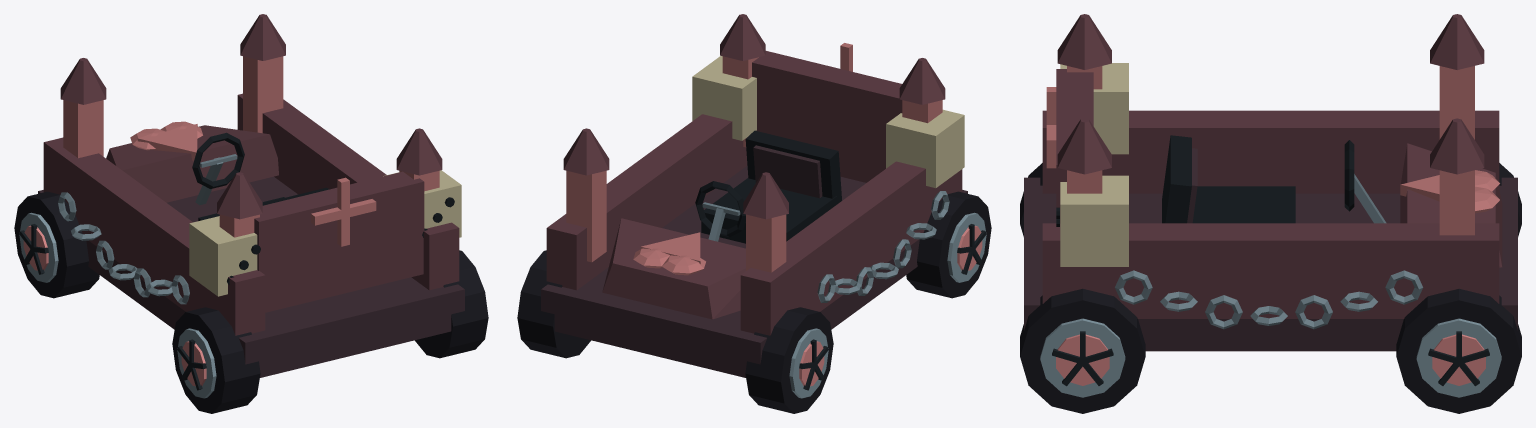
The model's file is kart.glb.
3 renders of one model, left to right at view 1: azimuth 30°, elevation 25°; view 2: azimuth 150°, elevation 25°; view 3: azimuth 270°, elevation 25°, orthographic. The views are drawn at different scales.
Visible parts, largest first — view 1: identity-reliquary-reliquary-arched-stone-chest, wheel-rear-left, wheel-front-left, identity-reliquary-motif-dice, wheel-rear-right, identity-reliquary-motif-chains, identity-reliquary-driver-cockpit, identity-reliquary-motif-heart; view 2: identity-reliquary-reliquary-arched-stone-chest, identity-reliquary-driver-cockpit, identity-reliquary-motif-dice, wheel-front-left, wheel-rear-left, wheel-front-right, identity-reliquary-motif-chains, identity-reliquary-motif-heart; view 3: identity-reliquary-reliquary-arched-stone-chest, wheel-front-right, wheel-rear-right, identity-reliquary-motif-dice, identity-reliquary-driver-cockpit, identity-reliquary-motif-chains, identity-reliquary-motif-heart.
Part boxes in pixels (x1,y1,x2,y2): identity-reliquary-reliquary-arched-stone-chest: (38,14,464,377); wheel-rear-left: (172,307,260,413); wheel-front-left: (14,191,99,298); identity-reliquary-motif-dice: (189,170,461,296); wheel-rear-right: (415,250,488,358); identity-reliquary-motif-chains: (58,192,189,304); identity-reliquary-driver-cockpit: (192,132,329,220); identity-reliquary-motif-heart: (130,121,202,160); identity-reliquary-reliquary-arched-stone-chest: (541,14,967,377); identity-reliquary-driver-cockpit: (695,130,841,243); identity-reliquary-motif-dice: (692,56,964,188); wheel-front-left: (745,307,833,413); wheel-rear-left: (906,191,991,298); wheel-front-right: (517,250,590,358); identity-reliquary-motif-chains: (817,191,949,302); identity-reliquary-motif-heart: (633,232,705,275); identity-reliquary-reliquary-arched-stone-chest: (1024,14,1517,351); wheel-front-right: (1396,288,1521,413); wheel-rear-right: (1020,288,1145,413); identity-reliquary-motif-dice: (1056,63,1128,266); identity-reliquary-driver-cockpit: (1162,135,1386,223); identity-reliquary-motif-chains: (1115,270,1423,329); identity-reliquary-motif-heart: (1400,170,1499,213).
Bounding box in the file's own units: 1.99 × 1.51 × 2.56.
